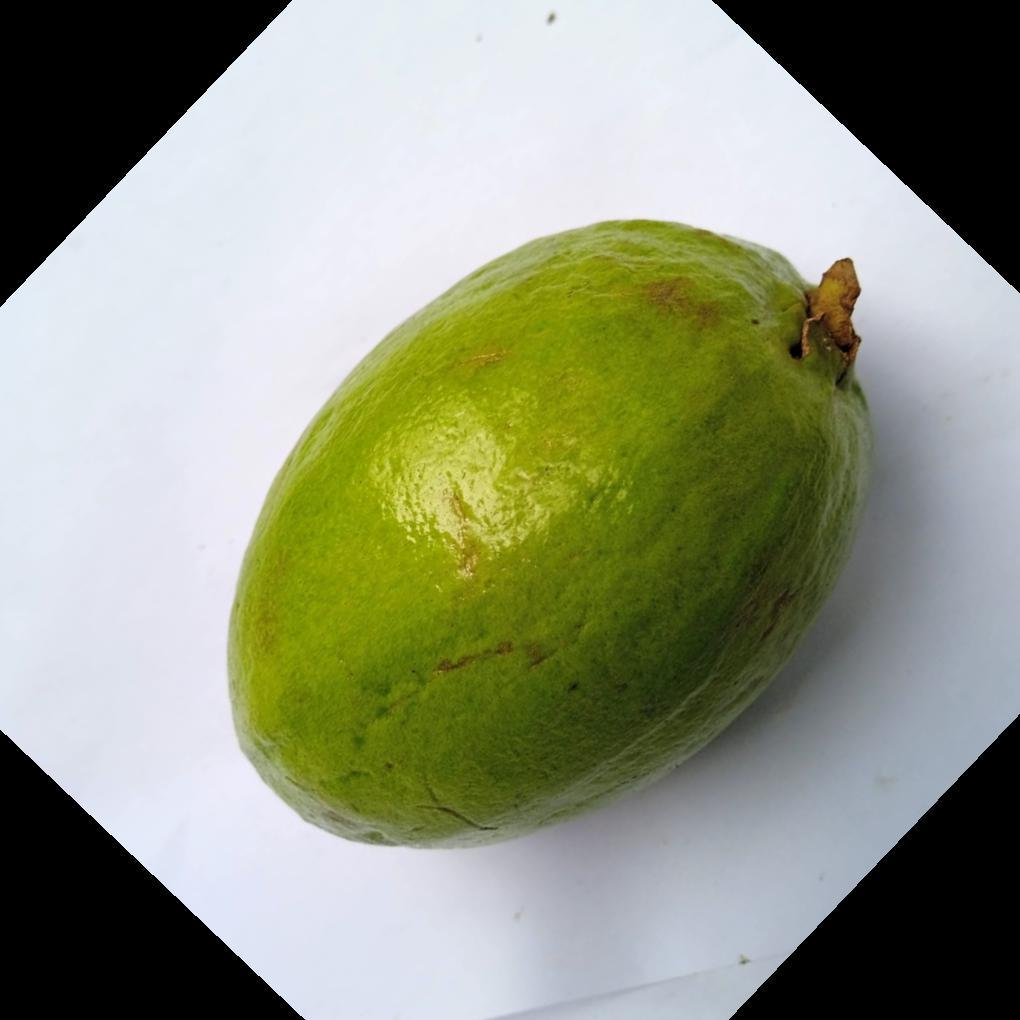FreshGuava: (222, 220, 875, 854)
